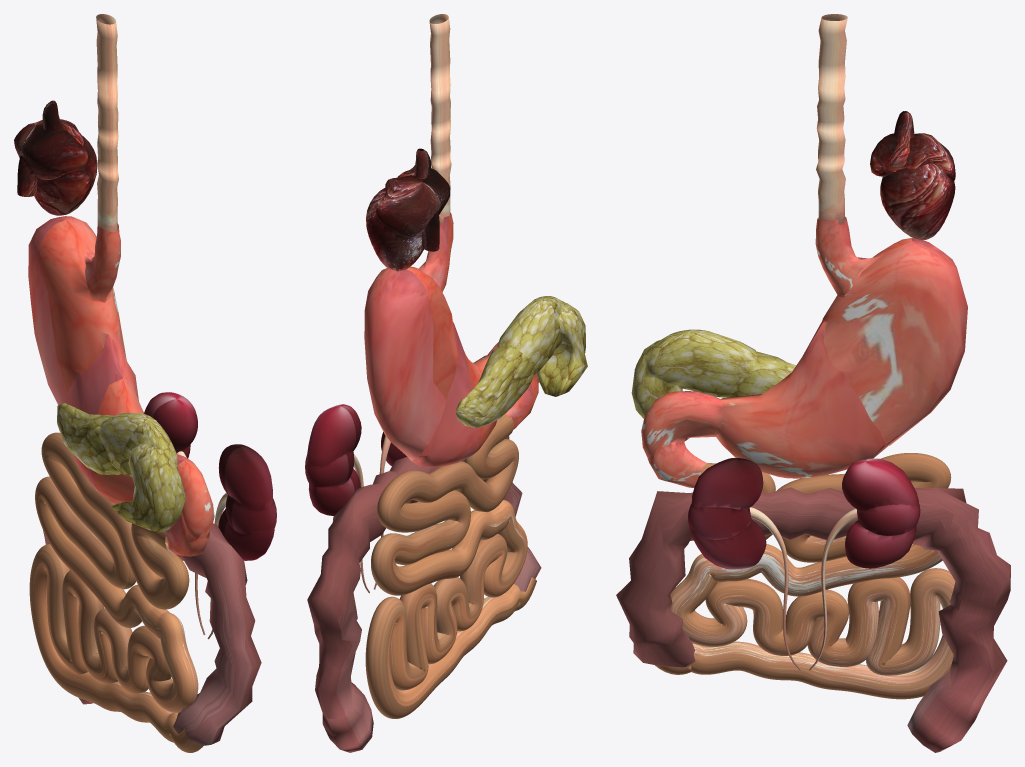
Rendered from DigestiveSystem.fbx.
The picture shows the model from 3 angles, left to right: view 1: azimuth 30°, elevation 25°; view 2: azimuth 150°, elevation 25°; view 3: azimuth 270°, elevation 25°; orthographic projection. The views are drawn at different scales.
Parts seen in each view (by area): view 1: SmallIntestine, Stomach, LargeIntestine, Pancreas, Heart, Kidney1, Esophagus, Kidney1.001; view 2: SmallIntestine, Stomach, LargeIntestine, Pancreas, Heart, Kidney1.001, Esophagus; view 3: Stomach, SmallIntestine, LargeIntestine, Pancreas, Heart, Kidney1, Kidney1.001, Esophagus, Ureter, Ureter.001.
Boxes of the visible parts, left/top/right/bottom form: SmallIntestine: left=29, top=432, right=203, bottom=752; Stomach: left=28, top=216, right=214, bottom=556; LargeIntestine: left=43, top=520, right=261, bottom=745; Pancreas: left=57, top=403, right=185, bottom=532; Heart: left=14, top=100, right=97, bottom=215; Kidney1: left=218, top=444, right=276, bottom=560; Esophagus: left=96, top=14, right=118, bottom=231; Kidney1.001: left=144, top=392, right=197, bottom=458; SmallIntestine: left=365, top=414, right=536, bottom=718; Stomach: left=364, top=212, right=539, bottom=466; LargeIntestine: left=307, top=436, right=541, bottom=752; Pancreas: left=456, top=296, right=587, bottom=428; Heart: left=366, top=148, right=450, bottom=271; Kidney1.001: left=305, top=404, right=361, bottom=515; Esophagus: left=429, top=14, right=451, bottom=224; Stomach: left=641, top=216, right=967, bottom=487; SmallIntestine: left=655, top=453, right=955, bottom=699; LargeIntestine: left=616, top=487, right=1010, bottom=752; Pancreas: left=631, top=329, right=796, bottom=418; Heart: left=870, top=111, right=955, bottom=239; Kidney1: left=687, top=458, right=766, bottom=569; Kidney1.001: left=842, top=458, right=920, bottom=568; Esophagus: left=816, top=14, right=847, bottom=224; Ureter: left=749, top=507, right=800, bottom=670; Ureter.001: left=809, top=508, right=857, bottom=670.
Bounding box in the file's own units: 593 × 2474 × 1236.
Materials: 10 (10 with a texture image).
